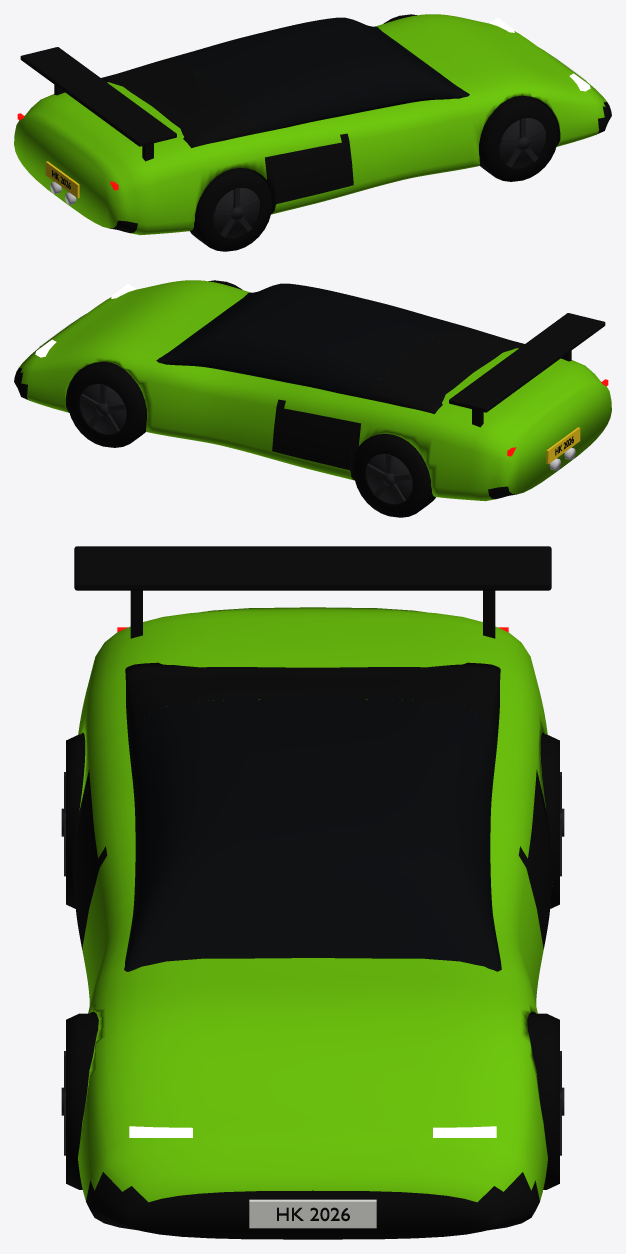
The model's file is super.glb.
The picture shows the model from 3 angles, top to bottom: view 1: azimuth 30°, elevation 25°; view 2: azimuth 150°, elevation 25°; view 3: azimuth 270°, elevation 25°; orthographic projection. The views are drawn at different scales.
Visible parts, largest first — view 1: body, canopy, wing, w_tyre.001, w_tyre.003, w_rim.003, w_rim.001, plate.001; view 2: body, canopy, wing, w_tyre, w_tyre.002, w_rim.002, w_rim, plate.001; view 3: body, canopy, wing, w_tyre, w_tyre.001, plate, w_tyre.002, w_tyre.003.
Boxes of the visible parts, x1=… form: body: x1=14, y1=14, x2=611, y2=235; canopy: x1=101, y1=17, x2=469, y2=147; wing: x1=20, y1=47, x2=176, y2=146; w_tyre.001: x1=479, y1=95, x2=558, y2=181; w_tyre.003: x1=190, y1=167, x2=272, y2=251; w_rim.003: x1=213, y1=188, x2=259, y2=238; w_rim.001: x1=499, y1=118, x2=545, y2=168; plate.001: x1=45, y1=161, x2=79, y2=198; body: x1=14, y1=280, x2=611, y2=501; canopy: x1=156, y1=283, x2=524, y2=413; wing: x1=449, y1=313, x2=605, y2=412; w_tyre: x1=67, y1=361, x2=146, y2=447; w_tyre.002: x1=353, y1=433, x2=435, y2=517; w_rim.002: x1=366, y1=454, x2=412, y2=504; w_rim: x1=80, y1=384, x2=126, y2=434; plate.001: x1=546, y1=427, x2=580, y2=464; body: x1=72, y1=607, x2=553, y2=1239; canopy: x1=124, y1=662, x2=501, y2=971; wing: x1=74, y1=546, x2=551, y2=590; w_tyre: x1=527, y1=1013, x2=559, y2=1189; w_tyre.001: x1=66, y1=1013, x2=98, y2=1189; plate: x1=249, y1=1199, x2=376, y2=1228; w_tyre.002: x1=540, y1=734, x2=559, y2=908; w_tyre.003: x1=66, y1=734, x2=85, y2=908.
Bounding box in the file's own units: 4.81 × 1.19 × 2.05.
